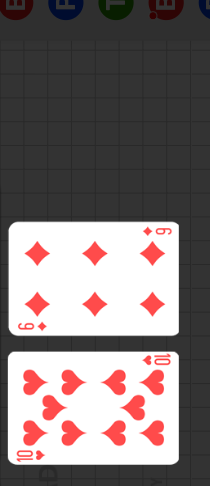10H: (14, 449, 46, 463)
6D: (141, 226, 173, 238)
